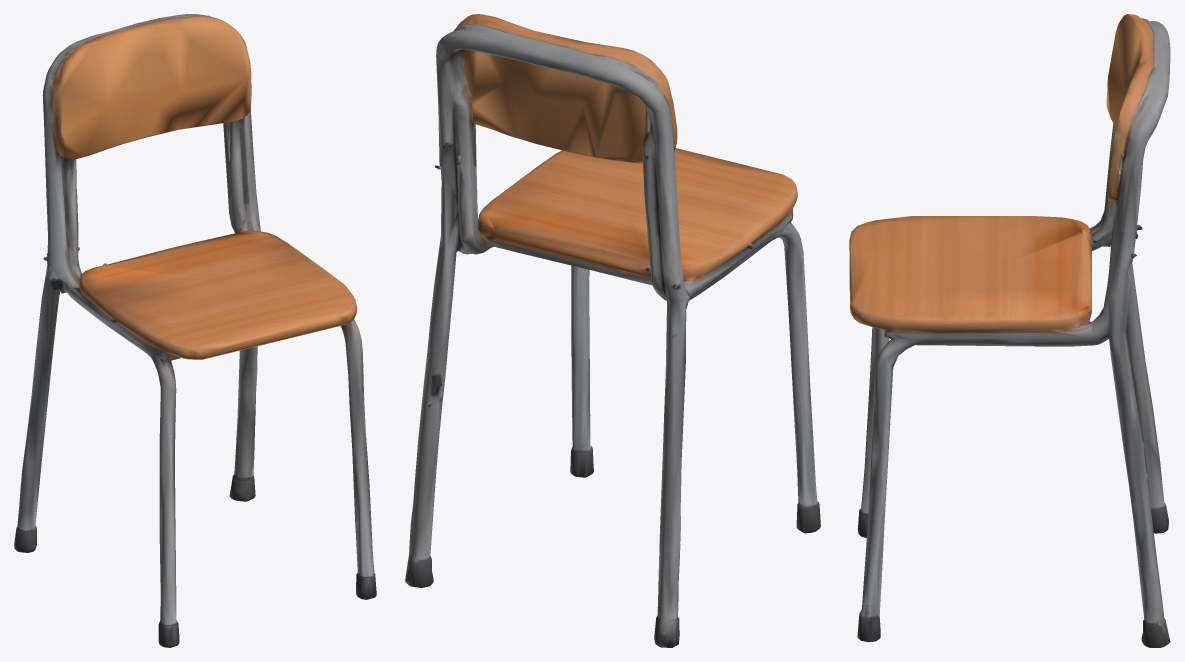
The model's file is JapaneseSchoolChair (4).fbx.
The picture shows the model from 3 angles, left to right: view 1: azimuth 30°, elevation 25°; view 2: azimuth 150°, elevation 25°; view 3: azimuth 270°, elevation 25°; orthographic projection. The views are drawn at different scales.
Parts seen in each view (by area): view 1: Mesh_0; view 2: Mesh_0; view 3: Mesh_0.
Part boxes in pixels (x1=…): Mesh_0: x1=14, y1=14, x2=376, y2=647; Mesh_0: x1=405, y1=14, x2=820, y2=647; Mesh_0: x1=849, y1=14, x2=1170, y2=647.
Bounding box in the file's own units: 99.19 × 200 × 108.
Materials: 1 (1 with a texture image).
